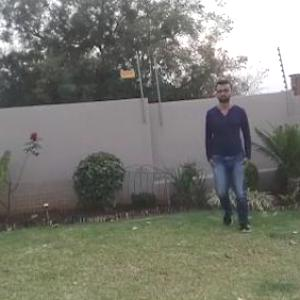follow: (204, 80, 253, 226)
